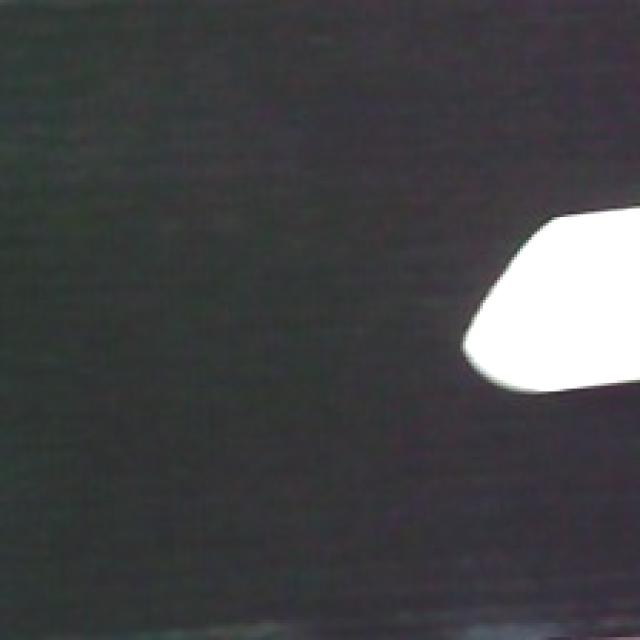defected: (463, 200, 640, 400)
